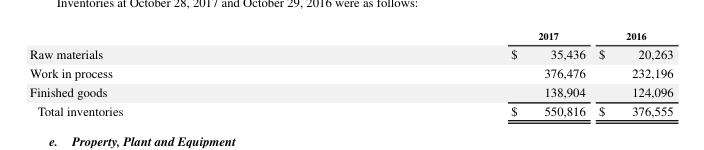table: (29, 28, 672, 118)
table column: (29, 28, 316, 118), (316, 28, 591, 118), (591, 28, 672, 118)
table column header: (29, 28, 672, 43)
table row: (29, 43, 672, 62), (29, 62, 672, 81), (29, 81, 672, 100), (29, 100, 672, 118), (29, 28, 672, 43)
